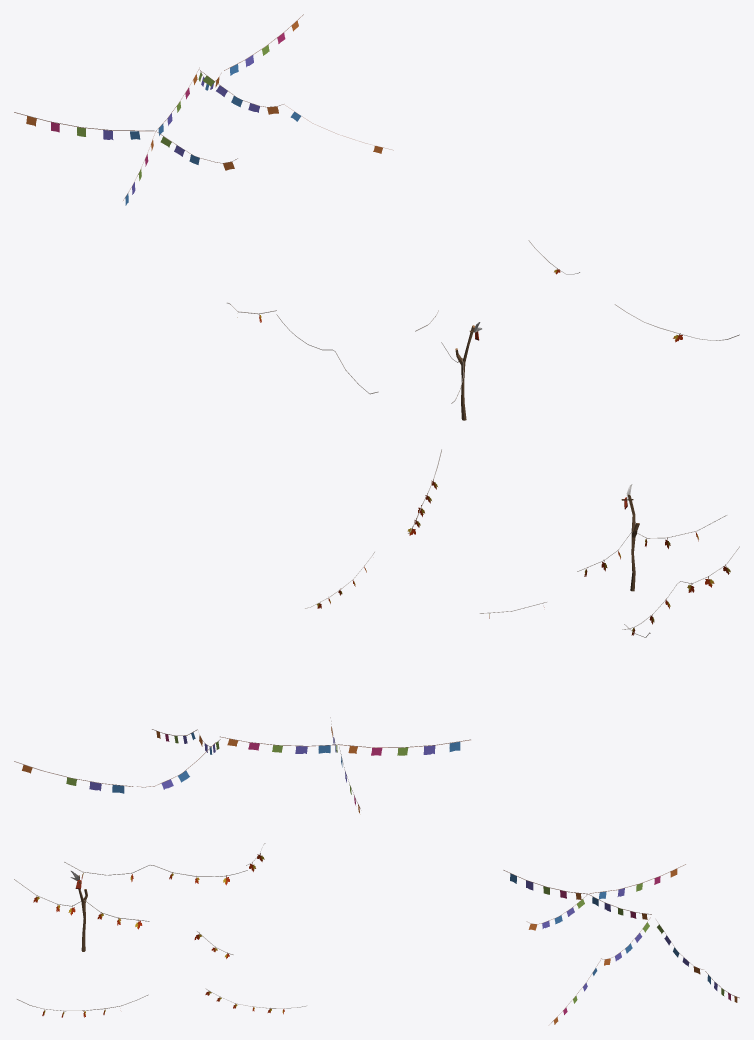
The picture shows the model from 3 angles, top to bottom: view 1: azimuth 30°, elevation 25°; view 2: azimuth 150°, elevation 25°; view 3: azimuth 270°, elevation 25°; orthographic projection. The views are drawn at different scales.
Visible parts, largest first — view 1: nestStage_26; view 2: nestStage_26; view 3: nestStage_26.
Boxes of the visible parts, <box> form: nestStage_26: <box>14,14,739,420</box>; nestStage_26: <box>14,449,739,813</box>; nestStage_26: <box>14,843,739,1025</box>.
Size of the model in its own units: 16.83 by 4.49 by 35.1.
